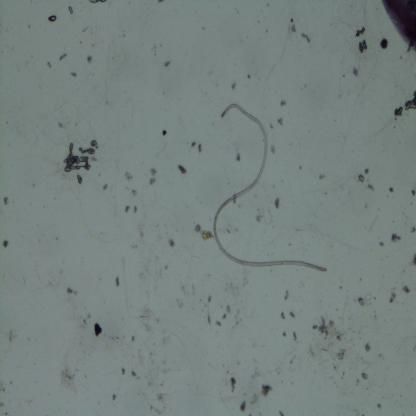Air bubble: (47, 13, 58, 23)
Background material: (130, 307, 171, 414), (61, 137, 99, 184), (312, 312, 346, 345), (394, 90, 416, 118), (60, 363, 79, 395), (214, 303, 232, 328), (176, 283, 190, 308), (194, 223, 213, 241), (357, 290, 374, 310), (145, 39, 160, 59), (63, 286, 79, 300), (92, 321, 103, 340), (335, 346, 346, 364), (228, 375, 238, 394), (354, 24, 367, 38), (176, 163, 188, 178), (7, 329, 18, 345), (358, 40, 370, 54), (207, 293, 212, 325), (288, 18, 298, 34), (149, 166, 157, 186), (261, 384, 274, 396), (390, 231, 402, 244), (122, 170, 134, 183), (300, 32, 312, 44), (387, 290, 397, 304), (272, 195, 281, 210), (401, 284, 412, 296), (128, 186, 138, 199), (379, 38, 389, 51), (86, 52, 94, 68), (238, 399, 247, 413), (167, 236, 176, 250), (282, 289, 290, 304), (410, 250, 416, 269), (363, 342, 372, 354), (361, 370, 370, 382), (59, 51, 67, 64), (161, 259, 169, 272), (278, 98, 288, 108), (373, 400, 384, 409), (357, 173, 366, 184), (234, 150, 241, 164), (352, 65, 359, 79), (3, 237, 10, 251), (113, 276, 121, 288), (2, 194, 10, 206), (163, 57, 171, 69), (130, 370, 140, 379), (88, 0, 106, 5), (367, 184, 377, 192), (288, 310, 296, 320), (318, 172, 326, 182), (110, 392, 118, 402), (270, 143, 276, 156), (245, 70, 252, 81), (255, 215, 263, 224), (229, 82, 238, 90), (58, 121, 66, 130), (198, 142, 204, 154), (278, 115, 284, 127), (388, 184, 395, 194), (364, 165, 370, 176), (68, 5, 74, 16), (410, 188, 416, 199), (280, 310, 286, 321), (190, 140, 198, 148), (101, 182, 109, 190), (70, 71, 78, 79), (46, 61, 53, 70), (410, 224, 416, 234), (291, 330, 297, 340), (378, 238, 384, 247), (131, 333, 136, 343), (132, 207, 138, 215), (121, 367, 126, 376), (162, 129, 167, 137), (125, 205, 130, 213), (282, 332, 287, 338)
Microfibre: (213, 103, 328, 273)
Pen: (378, 0, 416, 52)
